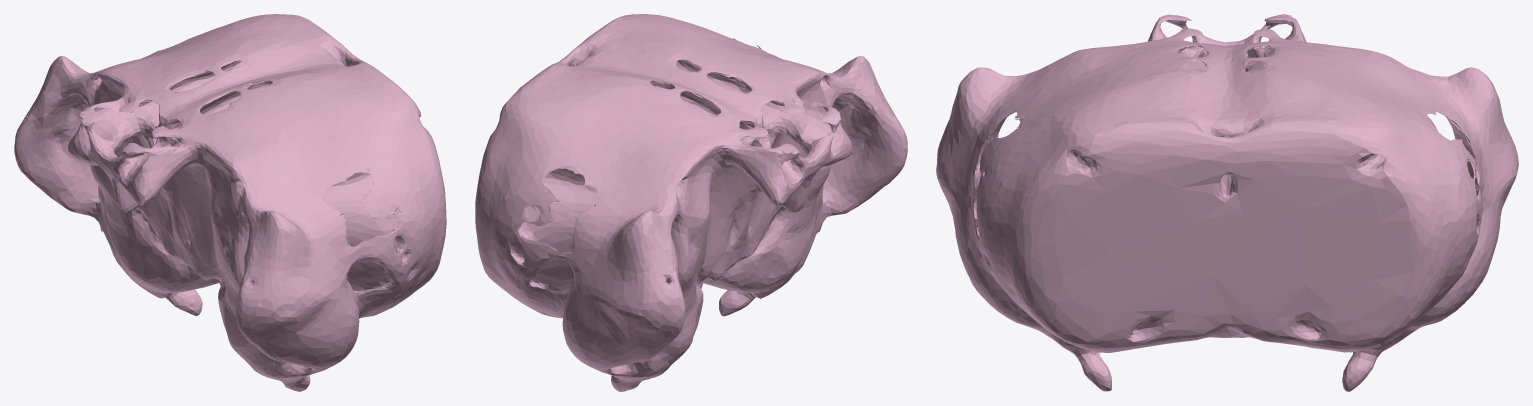
3 renders of one model, left to right at view 1: azimuth 30°, elevation 25°; view 2: azimuth 150°, elevation 25°; view 3: azimuth 270°, elevation 25°, orthographic. The views are drawn at different scales.
Parts seen in each view (by area): view 1: 354.obj; view 2: 354.obj; view 3: 354.obj.
Boxes of the visible parts, box(x1,y1,x2,y2) form: 354.obj: box(14, 14, 446, 391); 354.obj: box(475, 14, 907, 391); 354.obj: box(936, 14, 1518, 391).
Bounding box in the file's own units: 3686 × 3790 × 6081.
